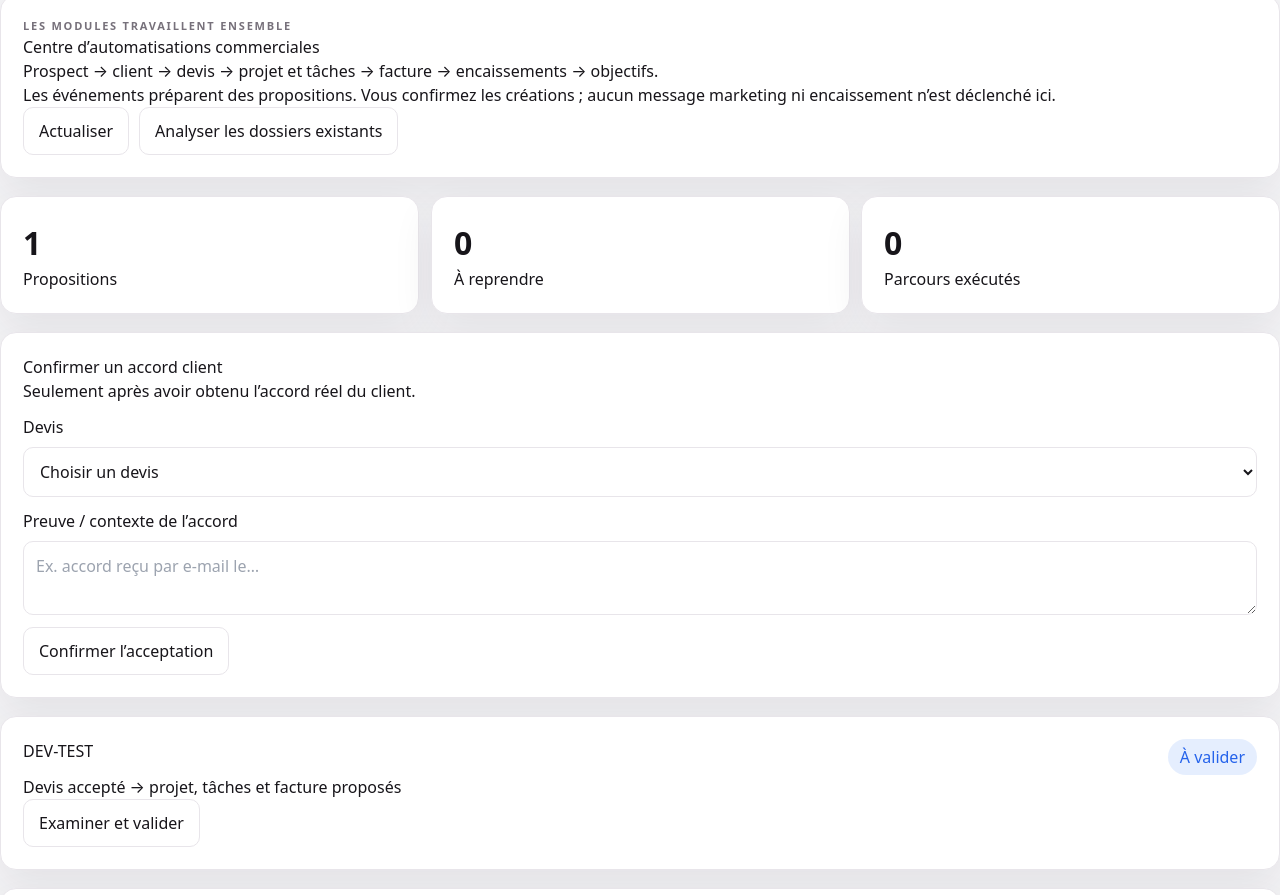
Test: centre des relations commerciales › prépare sans exécuter automatiquement et laisse facture et tâches optionnelles
Click the button "Examiner et valider". click: x=111, y=823
box: [23,799,200,847]
(page scrolled)
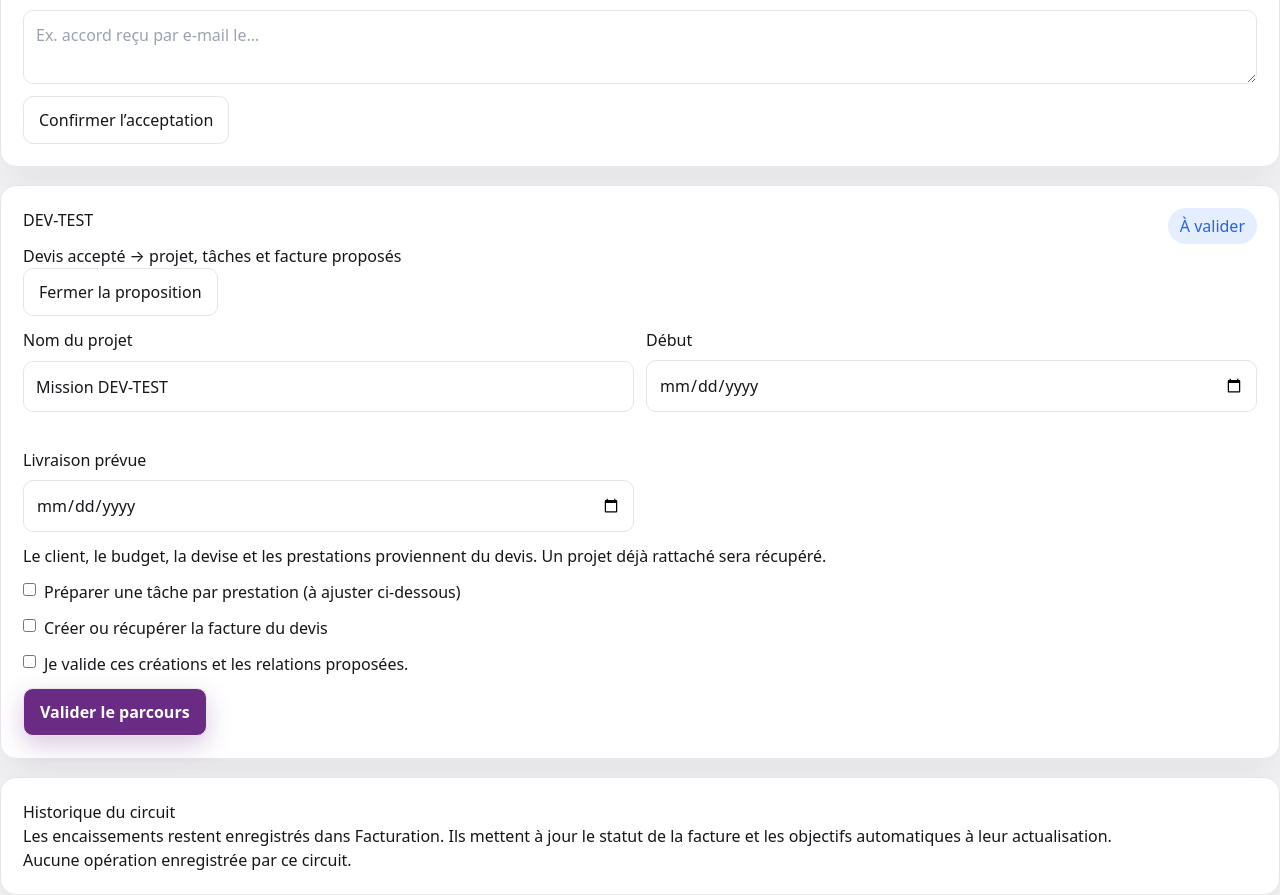
Expected: the checkbox labelled "Créer ou récupérer la facture du devis" is not checked, [23,619,36,632]
Expected: the checkbox labelled "Préparer une tâche par prestation (à ajuster ci-dessous)" is not checked, [23,583,36,596]
